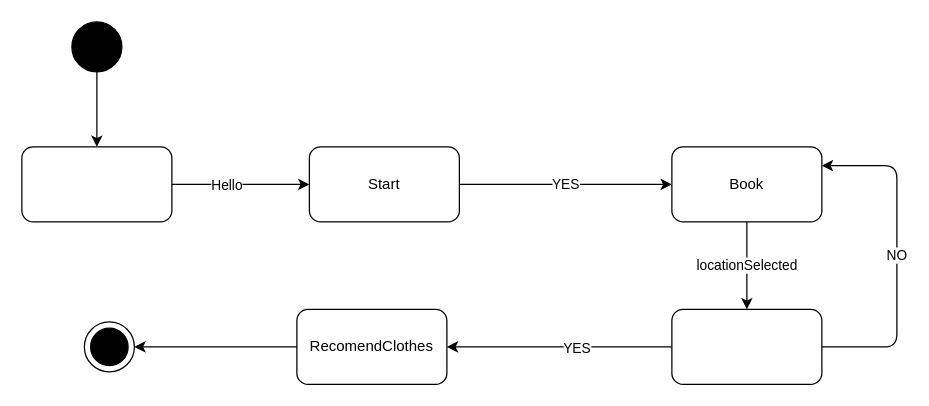
This 929x406 diagram has some shape labels left out. Each missing label, with the centre of its shape:
"Confirm" goes at point 746,346.
"Greet" goes at point 96,184.
